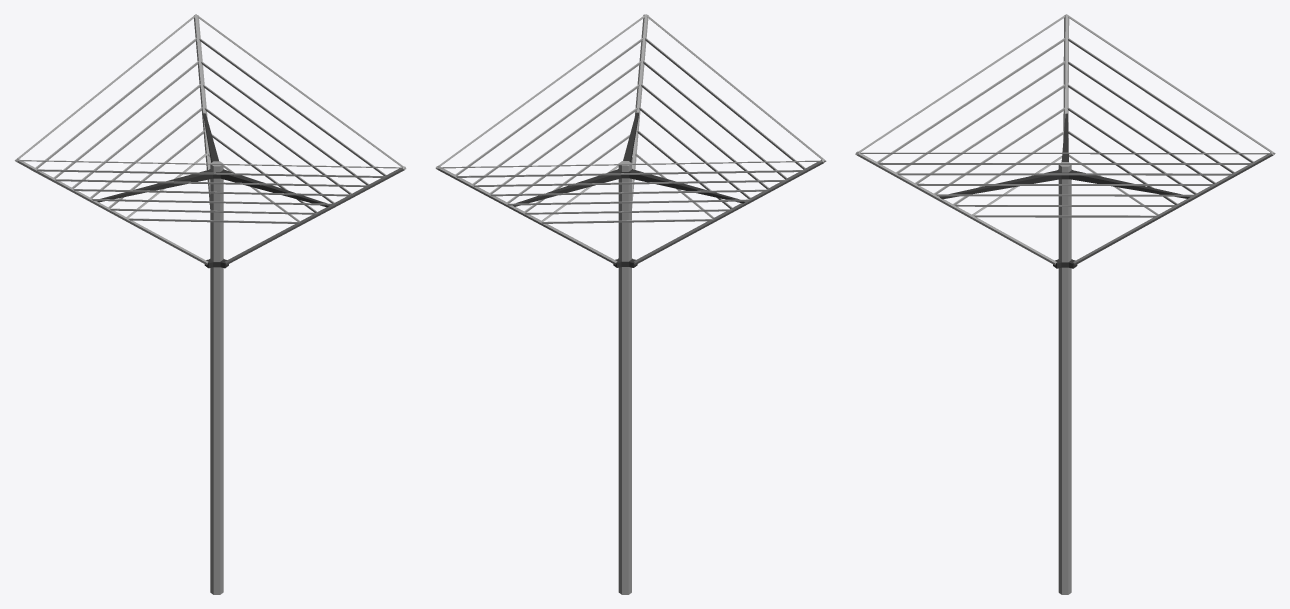
File: washing-line.glb
The picture shows the model from 3 angles, left to right: view 1: azimuth 30°, elevation 25°; view 2: azimuth 150°, elevation 25°; view 3: azimuth 270°, elevation 25°; orthographic projection.
Parts seen in each view (by area): view 1: WashingLine; view 2: WashingLine; view 3: WashingLine.
Boxes of the visible parts, <box> form: WashingLine: <box>14,14,406,594</box>; WashingLine: <box>435,14,826,594</box>; WashingLine: <box>855,14,1275,594</box>.
Size of the model in its own units: 1.43 by 2.29 by 1.81.
Materials: 1 (1 with a texture image).
